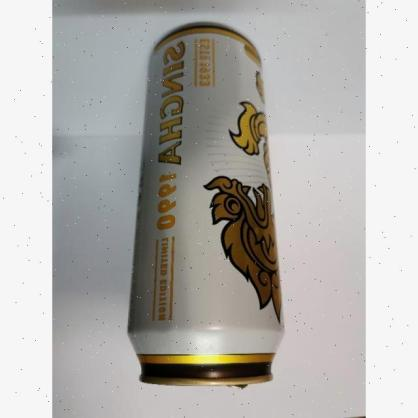can: (128, 22, 285, 387)
